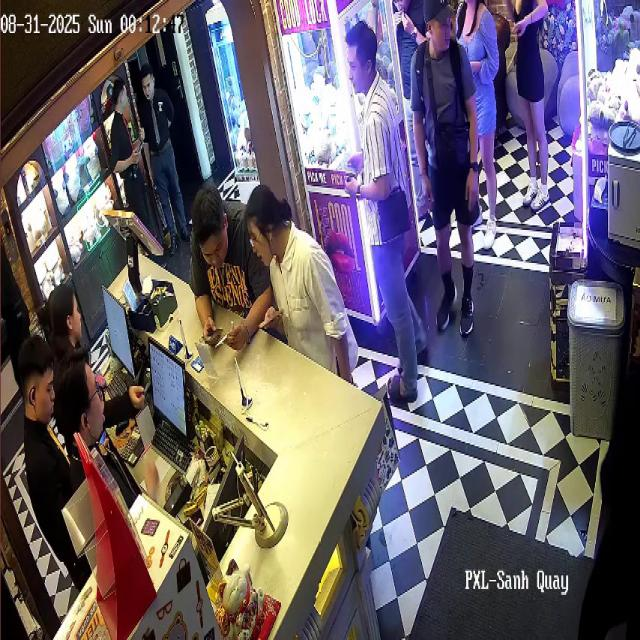khach: (337, 20, 428, 407), (407, 6, 482, 346), (242, 167, 355, 378), (187, 175, 268, 354), (454, 0, 505, 251), (507, 0, 555, 212)
nhan vien: (14, 330, 73, 562), (59, 348, 111, 580), (138, 65, 192, 249), (107, 78, 149, 264), (41, 263, 82, 366)
